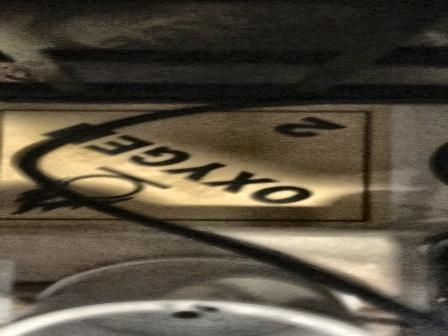oxidizer: (1, 102, 386, 231)
